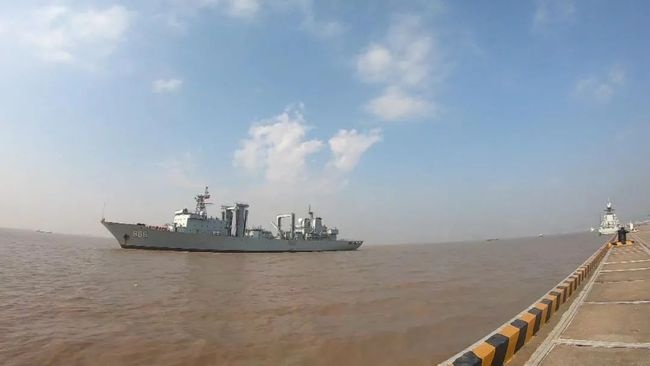warship: (93, 196, 368, 253)
